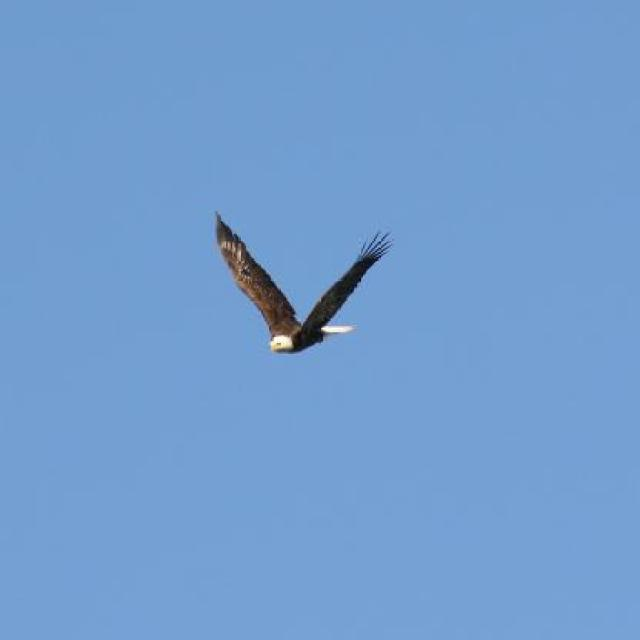Eagle: (210, 208, 395, 358)
